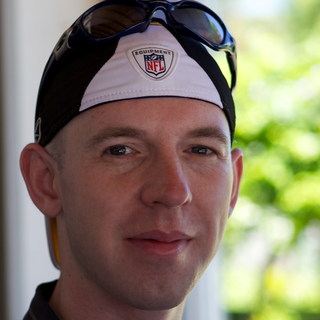eye: (94, 139, 145, 164), (178, 140, 219, 163)
